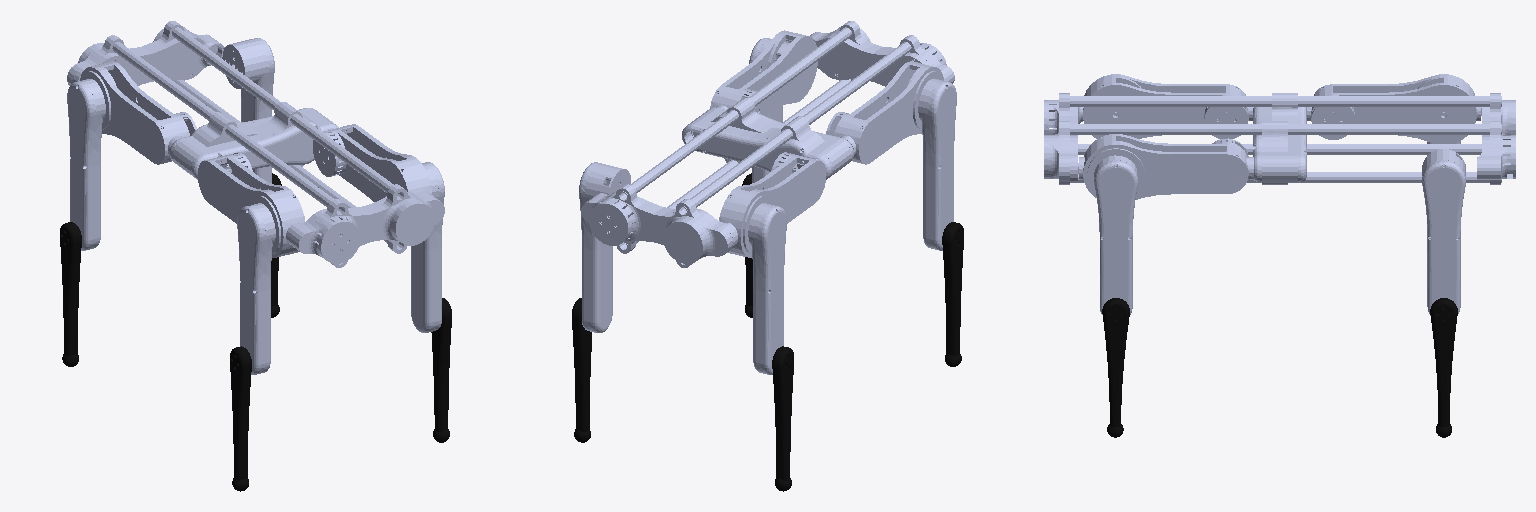
robot.urdf — quadf:
<?xml version="1.0" encoding="utf-8"?>
<!-- This URDF was automatically created by SolidWorks to URDF Exporter! Originally created by [author] ([email redacted]) 
     Commit Version: 1.6.0-1-g15f4949  Build Version: 1.6.7594.29634
     For more information, please see http://wiki.ros.org/sw_urdf_exporter -->
<robot
  name="quadf">
  <link name="base">
    <inertial>
      <origin
        xyz="-1.70385490158136E-14 -0.0138235985731072 -0.0264324777192774"
        rpy="0 0 0" />
      <mass
        value="2.37381544603402" />
      <inertia
        ixx="0.0209437152991633"
        ixy="0.000287352021558558"
        ixz="3.32615269885488E-16"
        iyy="0.0143486188433564"
        iyz="-9.24316639678872E-17"
        izz="0.03292339027832" />
    </inertial>
    <visual>
      <origin
        xyz="0 0 0"
        rpy="0 0 0" />
      <geometry>
        <mesh
          filename="../meshes/base.obj" />
      </geometry>
      <material
        name="">
        <color
          rgba="0.792156862745098 0.819607843137255 0.933333333333333 1" />
      </material>
    </visual>
    <collision>
      <origin
        xyz="0 0 0"
        rpy="0 0 0" />
      <geometry>
        <mesh
          filename="../meshes/base.obj" />
      </geometry>
    </collision>
  </link>
  <link name="front left hip">
    <inertial>
      <origin
        xyz="-0.000727243703443653 0.0921123421932154 -0.000198984132469628"
        rpy="0 0 0" />
      <mass
        value="0.601866556488004" />
      <inertia
        ixx="0.00596933210385933"
        ixy="0.000111385467813034"
        ixz="-2.6913154908652E-06"
        iyy="0.000696524079127736"
        iyz="1.55670120225854E-05"
        izz="0.00572460287072933" />
    </inertial>
    <visual>
      <origin
        xyz="0 0 0"
        rpy="0 0 0" />
      <geometry>
        <mesh
          filename="../meshes/front left hip.obj" />
      </geometry>
      <material
        name="">
        <color
          rgba="0.792156862745098 0.819607843137255 0.933333333333333 1" />
      </material>
    </visual>
    <collision>
      <origin
        xyz="0 0 0"
        rpy="0 0 0" />
      <geometry>
        <mesh
          filename="../meshes/front left hip.obj" />
      </geometry>
    </collision>
  </link>
  <joint name="front left hip joint"
    type="revolute">
    <origin
      xyz="-0.125000000000013 0.282500000000001 -0.0266306081677672"
      rpy="0 0 -3.14159265358979" />
    <parent
      link="base" />
    <child
      link="front left hip" />
    <axis
      xyz="0 1 0" />
    <limit
      lower="-3.14"
      upper="3.14"
      effort="9"
      velocity="5" />
  </joint>
  <link name="left front UL">
    <inertial>
      <origin
        xyz="-0.000209681593038635 0.0403703958248971 0.104221698379794"
        rpy="0 0 0" />
      <mass
        value="0.423016201461258" />
      <inertia
        ixx="0.00352758103464101"
        ixy="-1.18903041602086E-06"
        ixz="-9.5584362168216E-06"
        iyy="0.00368183782252195"
        iyz="-0.000143068160977384"
        izz="0.000251700053630159" />
    </inertial>
    <visual>
      <origin
        xyz="0 0 0"
        rpy="0 0 0" />
      <geometry>
        <mesh
          filename="../meshes/left front UL.obj" />
      </geometry>
      <material
        name="">
        <color
          rgba="0.792156862745098 0.819607843137255 0.933333333333333 1" />
      </material>
    </visual>
    <collision>
      <origin
        xyz="0 0 0"
        rpy="0 0 0" />
      <geometry>
        <mesh
          filename="../meshes/left front UL.obj" />
      </geometry>
    </collision>
  </link>
  <joint name="left front UL joint"
    type="revolute">
    <origin
      xyz="0.00170000000000001 0 0"
      rpy="-3.14159265358979 0 1.5707963267949" />
    <parent
      link="front left hip" />
    <child
      link="left front UL" />
    <axis
      xyz="0 1 0" />
    <limit
      lower="-6"
      upper="6"
      effort="9"
      velocity="5" />
  </joint>
  <link name="left front LL">
    <inertial>
      <origin
        xyz="-4.82947015711943E-15 0.00719227035186162 0.0979123541407718"
        rpy="0 0 0" />
      <mass
        value="0.18588320313603" />
      <inertia
        ixx="0.000942841477442434"
        ixy="1.54855627175905E-18"
        ixz="3.76723995243639E-15"
        iyy="0.000950744788421877"
        iyz="-4.9552792150223E-06"
        izz="2.53975387752843E-05" />
    </inertial>
    <visual>
      <origin
        xyz="0 0 0"
        rpy="0 0 0" />
      <geometry>
        <mesh
          filename="../meshes/left front LL.obj" />
      </geometry>
      <material
        name="">
        <color
          rgba="0.101960784313725 0.101960784313725 0.101960784313725 1" />
      </material>
    </visual>
    <collision>
      <origin
        xyz="0 0 0"
        rpy="0 0 0" />
      <geometry>
        <mesh
          filename="../meshes/left front LL.obj" />
      </geometry>
    </collision>
  </link>
  <joint name="left front LL joint"
    type="revolute">
    <origin
      xyz="0 0.0678 0.250000000000003"
      rpy="0 0 0" />
    <parent
      link="left front UL" />
    <child
      link="left front LL" />
    <axis
      xyz="0 1 0" />
    <limit
      lower="-6"
      upper="6"
      effort="9"
      velocity="5" />
  </joint>
  <link name="front right hip">
    <inertial>
      <origin
        xyz="-0.000742117901801134 0.0882779459995091 0.000214154719464069"
        rpy="0 0 0" />
      <mass
        value="0.594830758051326" />
      <inertia
        ixx="0.00579009696104055"
        ixy="0.000114220085854743"
        ixz="3.18218078782749E-06"
        iyy="0.000693987589064899"
        iyz="-1.63944084824221E-05"
        izz="0.00554610693255237" />
    </inertial>
    <visual>
      <origin
        xyz="0 0 0"
        rpy="0 0 0" />
      <geometry>
        <mesh
          filename="../meshes/front right hip.obj" />
      </geometry>
      <material
        name="">
        <color
          rgba="0.792156862745098 0.819607843137255 0.933333333333333 1" />
      </material>
    </visual>
    <collision>
      <origin
        xyz="0 0 0"
        rpy="0 0 0" />
      <geometry>
        <mesh
          filename="../meshes/front right hip.obj" />
      </geometry>
    </collision>
  </link>
  <joint name="front right hip joint"
    type="revolute">
    <origin
      xyz="0.124999999999999 0.283000000000001 -0.0266306081677545"
      rpy="-3.14159265358979 0 0" />
    <parent
      link="base" />
    <child
      link="front right hip" />
    <axis
      xyz="0 -1 0" />
    <limit
      lower="-3.14"
      upper="3.14"
      effort="9"
      velocity="5" />
  </joint>
  <link name="right front UL">
    <inertial>
      <origin
        xyz="-0.000209681593037359 0.0403703958248838 0.1042216983798"
        rpy="0 0 0" />
      <mass
        value="0.423016201461258" />
      <inertia
        ixx="0.003527581034641"
        ixy="-1.18903041601998E-06"
        ixz="-9.55843621683405E-06"
        iyy="0.00368183782252204"
        iyz="-0.000143068160977384"
        izz="0.000251700053630252" />
    </inertial>
    <visual>
      <origin
        xyz="0 0 0"
        rpy="0 0 0" />
      <geometry>
        <mesh
          filename="../meshes/right front UL.obj" />
      </geometry>
      <material
        name="">
        <color
          rgba="0.792156862745098 0.819607843137255 0.933333333333333 1" />
      </material>
    </visual>
    <collision>
      <origin
        xyz="0 0 0"
        rpy="0 0 0" />
      <geometry>
        <mesh
          filename="../meshes/right front UL.obj" />
      </geometry>
    </collision>
  </link>
  <joint name="right front UL joint"
    type="revolute">
    <origin
      xyz="0.00169999999999995 0 0"
      rpy="0 0 -1.5707963267949" />
    <parent
      link="front right hip" />
    <child
      link="right front UL" />
    <axis
      xyz="0 1 0" />
    <limit
      lower="-6"
      upper="6"
      effort="9"
      velocity="5" />
  </joint>
  <link name="right front LL">
    <inertial>
      <origin
        xyz="-7.27196081129478E-15 0.00719227035185829 0.0979123541407722"
        rpy="0 0 0" />
      <mass
        value="0.185883203136022" />
      <inertia
        ixx="0.000942841477442774"
        ixy="3.64831777228061E-18"
        ixz="3.36833300639854E-15"
        iyy="0.000950744788424826"
        iyz="-4.95527921502276E-06"
        izz="2.53975387778962E-05" />
    </inertial>
    <visual>
      <origin
        xyz="0 0 0"
        rpy="0 0 0" />
      <geometry>
        <mesh
          filename="../meshes/right front LL.obj" />
      </geometry>
      <material
        name="">
        <color
          rgba="0.101960784313725 0.101960784313725 0.101960784313725 1" />
      </material>
    </visual>
    <collision>
      <origin
        xyz="0 0 0"
        rpy="0 0 0" />
      <geometry>
        <mesh
          filename="../meshes/right front LL.obj" />
      </geometry>
    </collision>
  </link>
  <joint name="right front LL joint"
    type="revolute">
    <origin
      xyz="0 0.0677999999999798 0.250000000000016"
      rpy="0 0 0" />
    <parent
      link="right front UL" />
    <child
      link="right front LL" />
    <axis
      xyz="0 1 0" />
    <limit
      lower="-6"
      upper="6"
      effort="9"
      velocity="5" />
  </joint>
  <link name="Back left hip">
    <inertial>
      <origin
        xyz="-0.000742117901777875 0.0882779459995155 0.000214154719464728"
        rpy="0 0 0" />
      <mass
        value="0.594830758051326" />
      <inertia
        ixx="0.00579009696104056"
        ixy="0.000114220085854743"
        ixz="3.18218078782762E-06"
        iyy="0.0006939875890649"
        iyz="-1.63944084824232E-05"
        izz="0.00554610693255238" />
    </inertial>
    <visual>
      <origin
        xyz="0 0 0"
        rpy="0 0 0" />
      <geometry>
        <mesh
          filename="../meshes/Back left hip.obj" />
      </geometry>
      <material
        name="">
        <color
          rgba="0.792156862745098 0.819607843137255 0.933333333333333 1" />
      </material>
    </visual>
    <collision>
      <origin
        xyz="0 0 0"
        rpy="0 0 0" />
      <geometry>
        <mesh
          filename="../meshes/Back left hip.obj" />
      </geometry>
    </collision>
  </link>
  <joint name="Back left hip joint"
    type="revolute">
    <origin
      xyz="-0.125000000000011 -0.310800000000001 -0.0266306081677699"
      rpy="3.14159265358979 0 -3.14159265358979" />
    <parent
      link="base" />
    <child
      link="Back left hip" />
    <axis
      xyz="0 -1 0" />
    <limit
      lower="-3.14"
      upper="3.14"
      effort="9"
      velocity="5" />
  </joint>
  <link name="left back UL">
    <inertial>
      <origin
        xyz="-0.000209681593043909 0.0403703958249091 0.104221698379799"
        rpy="0 0 0" />
      <mass
        value="0.423016201461257" />
      <inertia
        ixx="0.003527581034641"
        ixy="-1.18903041602077E-06"
        ixz="-9.55843621681877E-06"
        iyy="0.00368183782252201"
        iyz="-0.000143068160977384"
        izz="0.000251700053630218" />
    </inertial>
    <visual>
      <origin
        xyz="0 0 0"
        rpy="0 0 0" />
      <geometry>
        <mesh
          filename="../meshes/left back UL.obj" />
      </geometry>
      <material
        name="">
        <color
          rgba="0.792156862745098 0.819607843137255 0.933333333333333 1" />
      </material>
    </visual>
    <collision>
      <origin
        xyz="0 0 0"
        rpy="0 0 0" />
      <geometry>
        <mesh
          filename="../meshes/left back UL.obj" />
      </geometry>
    </collision>
  </link>
  <joint name="left back UL joint"
    type="revolute">
    <origin
      xyz="0.00169999999999795 0 0"
      rpy="0 0 -1.5707963267949" />
    <parent
      link="Back left hip" />
    <child
      link="left back UL" />
    <axis
      xyz="0 1 0" />
    <limit
      lower="-6"
      upper="6"
      effort="9"
      velocity="5" />
  </joint>
  <link name="left back LL">
    <inertial>
      <origin
        xyz="-4.38538094726937E-15 0.00719227035185818 0.0979123541407708"
        rpy="0 0 0" />
      <mass
        value="0.185883203136021" />
      <inertia
        ixx="0.000942841477442421"
        ixy="-7.81846998391496E-18"
        ixz="3.12086796242812E-15"
        iyy="0.000950744788424168"
        iyz="-4.95527921502166E-06"
        izz="2.53975387775872E-05" />
    </inertial>
    <visual>
      <origin
        xyz="0 0 0"
        rpy="0 0 0" />
      <geometry>
        <mesh
          filename="../meshes/left back LL.obj" />
      </geometry>
      <material
        name="">
        <color
          rgba="0.101960784313725 0.101960784313725 0.101960784313725 1" />
      </material>
    </visual>
    <collision>
      <origin
        xyz="0 0 0"
        rpy="0 0 0" />
      <geometry>
        <mesh
          filename="../meshes/left back LL.obj" />
      </geometry>
    </collision>
  </link>
  <joint name="left back LL joint"
    type="revolute">
    <origin
      xyz="0 0.067800000000012 0.250000000000008"
      rpy="0 0 0" />
    <parent
      link="left back UL" />
    <child
      link="left back LL" />
    <axis
      xyz="0 1 0" />
    <limit
      lower="-6"
      upper="6"
      effort="9"
      velocity="5" />
  </joint>
  <link name="Back right hip">
    <inertial>
      <origin
        xyz="-0.000727243703443806 0.092112342193215 -0.000198984132470569"
        rpy="0 0 0" />
      <mass
        value="0.601866556488004" />
      <inertia
        ixx="0.00596933210385933"
        ixy="0.000111385467813034"
        ixz="-2.69131549086511E-06"
        iyy="0.000696524079127736"
        iyz="1.5567012022586E-05"
        izz="0.00572460287072934" />
    </inertial>
    <visual>
      <origin
        xyz="0 0 0"
        rpy="0 0 0" />
      <geometry>
        <mesh
          filename="../meshes/Back right hip.obj" />
      </geometry>
      <material
        name="">
        <color
          rgba="0.792156862745098 0.819607843137255 0.933333333333333 1" />
      </material>
    </visual>
    <collision>
      <origin
        xyz="0 0 0"
        rpy="0 0 0" />
      <geometry>
        <mesh
          filename="../meshes/Back right hip.obj" />
      </geometry>
    </collision>
  </link>
  <joint name="Back right hip joint"
    type="revolute">
    <origin
      xyz="0.12499999999998 -0.3103 -0.0266306081677744"
      rpy="0 0 0" />
    <parent
      link="base" />
    <child
      link="Back right hip" />
    <axis
      xyz="0 1 0" />
    <limit
      lower="-3.14"
      upper="3.14"
      effort="9"
      velocity="5" />
  </joint>
  <link name="right back UL">
    <inertial>
      <origin
        xyz="-0.000209681593039857 0.0403703958248969 0.104221698379792"
        rpy="0 0 0" />
      <mass
        value="0.423016201461257" />
      <inertia
        ixx="0.003527581034641"
        ixy="-1.18903041601913E-06"
        ixz="-9.55843621683442E-06"
        iyy="0.00368183782252197"
        iyz="-0.000143068160977384"
        izz="0.000251700053630182" />
    </inertial>
    <visual>
      <origin
        xyz="0 0 0"
        rpy="0 0 0" />
      <geometry>
        <mesh
          filename="../meshes/right back UL.obj" />
      </geometry>
      <material
        name="">
        <color
          rgba="0.792156862745098 0.819607843137255 0.933333333333333 1" />
      </material>
    </visual>
    <collision>
      <origin
        xyz="0 0 0"
        rpy="0 0 0" />
      <geometry>
        <mesh
          filename="../meshes/right back UL.obj" />
      </geometry>
    </collision>
  </link>
  <joint name="right back UL joint"
    type="revolute">
    <origin
      xyz="0.00169999999999998 0 0"
      rpy="-3.14159265358979 0 1.5707963267949" />
    <parent
      link="Back right hip" />
    <child
      link="right back UL" />
    <axis
      xyz="0 1 0" />
    <limit
      lower="-6"
      upper="6"
      effort="9"
      velocity="5" />
  </joint>
  <link name="right back LL">
    <inertial>
      <origin
        xyz="-6.93889390390723E-15 0.00719227035185524 0.0979123541407748"
        rpy="0 0 0" />
      <mass
        value="0.185883203136021" />
      <inertia
        ixx="0.00094284147744289"
        ixy="6.66708551010558E-18"
        ixz="3.83979606638839E-15"
        iyy="0.000950744788423458"
        iyz="-4.95527921502387E-06"
        izz="2.53975387764063E-05" />
    </inertial>
    <visual>
      <origin
        xyz="0 0 0"
        rpy="0 0 0" />
      <geometry>
        <mesh
          filename="../meshes/right back LL.obj" />
      </geometry>
      <material
        name="">
        <color
          rgba="0.101960784313725 0.101960784313725 0.101960784313725 1" />
      </material>
    </visual>
    <collision>
      <origin
        xyz="0 0 0"
        rpy="0 0 0" />
      <geometry>
        <mesh
          filename="../meshes/right back LL.obj" />
      </geometry>
    </collision>
  </link>
  <joint name="right back LL joint"
    type="revolute">
    <origin
      xyz="0 0.0678000000000027 0.25"
      rpy="0 -0.00644318629091657 0" />
    <parent
      link="right back UL" />
    <child
      link="right back LL" />
    <axis
      xyz="0 1 0" />
    <limit
      lower="-6"
      upper="6"
      effort="9"
      velocity="5" />
  </joint>

  <transmission name="Actuator1_transmission" >
        <type>transmission_interface/SimpleTransmission</type>
        <joint name="front left hip joint" />
        <actuator name="motor_1" />
    </transmission>
    <transmission name="Actuator2_transmission" >
        <type>transmission_interface/SimpleTransmission</type>
        <joint name="left front UL joint" />
        <actuator name="motor_2" />
    </transmission>
    <transmission name="Actuator3_transmission" >
        <type>transmission_interface/SimpleTransmission</type>
        <joint name="left front LL joint" />
        <actuator name="motor_3" />
    </transmission>
    <transmission name="Actuator4_transmission" >
        <type>transmission_interface/SimpleTransmission</type>
        <joint name="front right hip joint" />
        <actuator name="motor_4" />
    </transmission>
    <transmission name="Actuator5_transmission" >
        <type>transmission_interface/SimpleTransmission</type>
        <joint name="right front UL joint" />
        <actuator name="motor_5" />
    </transmission>
    <transmission name="Actuator6_transmission" >
        <type>transmission_interface/SimpleTransmission</type>
        <joint name="right front LL joint" />
        <actuator name="motor_6" />
    </transmission>
    <transmission name="Actuator7_transmission" >
        <type>transmission_interface/SimpleTransmission</type>
        <joint name="Back left hip joint" />
        <actuator name="motor_7" />
    </transmission>
    <transmission name="Actuator8_transmission" >
        <type>transmission_interface/SimpleTransmission</type>
        <joint name="left back UL joint" />
        <actuator name="motor_8" />
    </transmission>
    <transmission name="Actuator9_transmission" >
        <type>transmission_interface/SimpleTransmission</type>
        <joint name="left back LL joint" />
        <actuator name="motor_9" />
    </transmission>
    <transmission name="Actuator10_transmission" >
        <type>transmission_interface/SimpleTransmission</type>
        <joint name="Back right hip joint" />
        <actuator name="motor_10" />
    </transmission>
    <transmission name="Actuator11_transmission" >
        <type>transmission_interface/SimpleTransmission</type>
        <joint name="right back UL joint" />
        <actuator name="motor_11" />
    </transmission>
    <transmission name="Actuator12_transmission" >
        <type>transmission_interface/SimpleTransmission</type>
        <joint name="right back LL joint" />
        <actuator name="motor_12" />
    </transmission>
</robot>

--- Render facts (derived) ---
3 views of the same robot in one strip: view 1: azimuth 30°, elevation 25°; view 2: azimuth 150°, elevation 25°; view 3: azimuth 270°, elevation 25° (orthographic).
Robot: quadf — 13 links, 12 joints (12 revolute); root link base; default pose: all joints at 0.
Links seen in each view (by area): view 1: base, front left hip, left front UL, left back UL, Back left hip, Back right hip, right back UL, right front UL, left back LL, left front LL, right back LL; view 2: base, Back left hip, left back UL, left front UL, front left hip, right front UL, Back right hip, left front LL, left back LL, right front LL, right back UL; view 3: base, Back right hip, front left hip, right front UL, Back left hip, right back UL, right front LL, right back LL.
Boxes of the visible links, x1,y1,x2,y2 form: base: [67, 21, 444, 267]; front left hip: [80, 61, 196, 164]; left front UL: [67, 79, 105, 250]; left back UL: [237, 203, 275, 374]; Back left hip: [198, 152, 304, 257]; Back right hip: [313, 124, 431, 201]; right back UL: [411, 162, 444, 332]; right front UL: [222, 38, 274, 182]; left back LL: [230, 346, 251, 491]; left front LL: [60, 222, 81, 366]; right back LL: [431, 298, 451, 442]; base: [581, 21, 954, 267]; Back left hip: [826, 61, 943, 164]; left back UL: [918, 79, 956, 250]; left front UL: [748, 203, 786, 374]; front left hip: [719, 152, 826, 257]; right front UL: [579, 162, 630, 332]; Back right hip: [710, 30, 817, 115]; left front LL: [772, 346, 793, 491]; left back LL: [942, 222, 963, 366]; right front LL: [572, 298, 591, 442]; right back UL: [749, 38, 789, 182]; base: [1044, 93, 1515, 184]; Back right hip: [1078, 134, 1253, 199]; front left hip: [1307, 74, 1481, 143]; right front UL: [1422, 149, 1465, 315]; Back left hip: [1083, 74, 1252, 138]; right back UL: [1094, 155, 1137, 314]; right front LL: [1430, 298, 1457, 437]; right back LL: [1102, 298, 1129, 437].
Bounding box of the posed robot: 0.4339 × 0.8524 × 0.5627 m (x, y, z).
Meshes: 13 distinct files referenced, 12 mesh visuals loaded (12 OBJ); not drawn: 1 (reference not matched to a file when rendering).